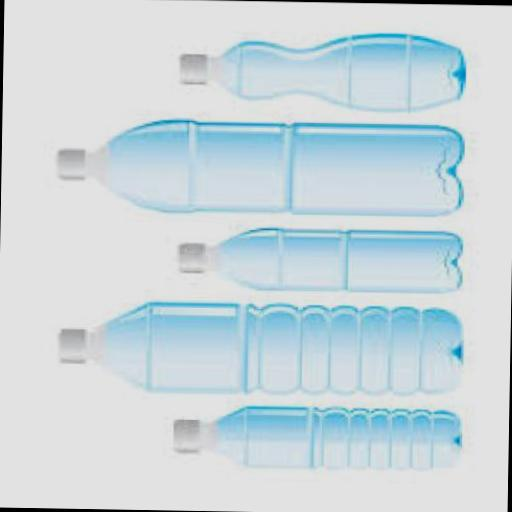plastic: (52, 120, 460, 220), (58, 304, 458, 396), (174, 30, 463, 116), (170, 408, 458, 476), (176, 228, 458, 294), (168, 418, 203, 458), (174, 54, 209, 88), (54, 330, 88, 364), (174, 244, 203, 276), (54, 149, 82, 181)
